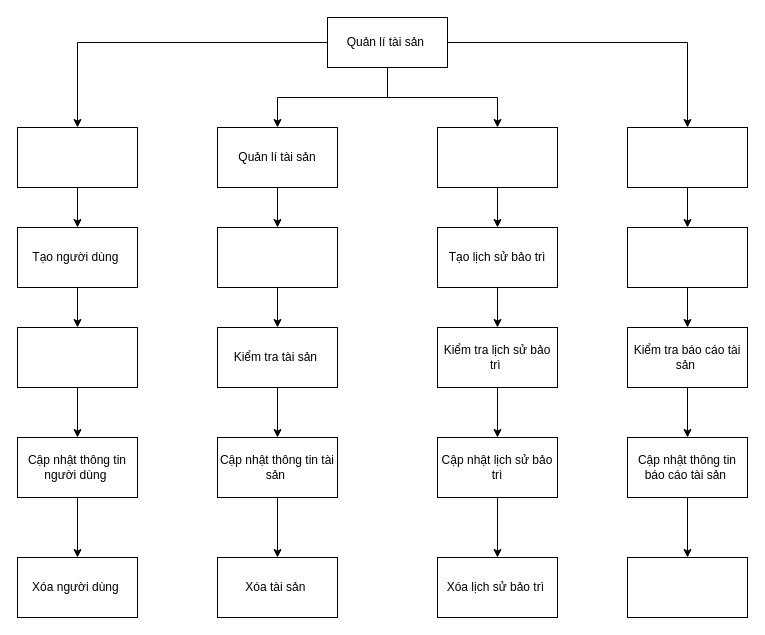
This 765x635 diagram has some shape labels left out. The shapes that lost their labels are listed below. From the top down, each one's box as (x1, y1, x2, y2) in pixels, then its label:
(16, 126, 138, 188): Quản lí người dùng
(436, 126, 558, 188): Quản lí lịch sử bảo trì
(626, 126, 748, 188): Quản lí báo cáo tài sản
(216, 226, 338, 288): Tạo tài sản
(626, 226, 748, 288): Tạo báo cáo tài sản
(16, 326, 138, 388): Kiểm tra người dùng
(626, 556, 748, 618): Xóa báo cáo tài sản
